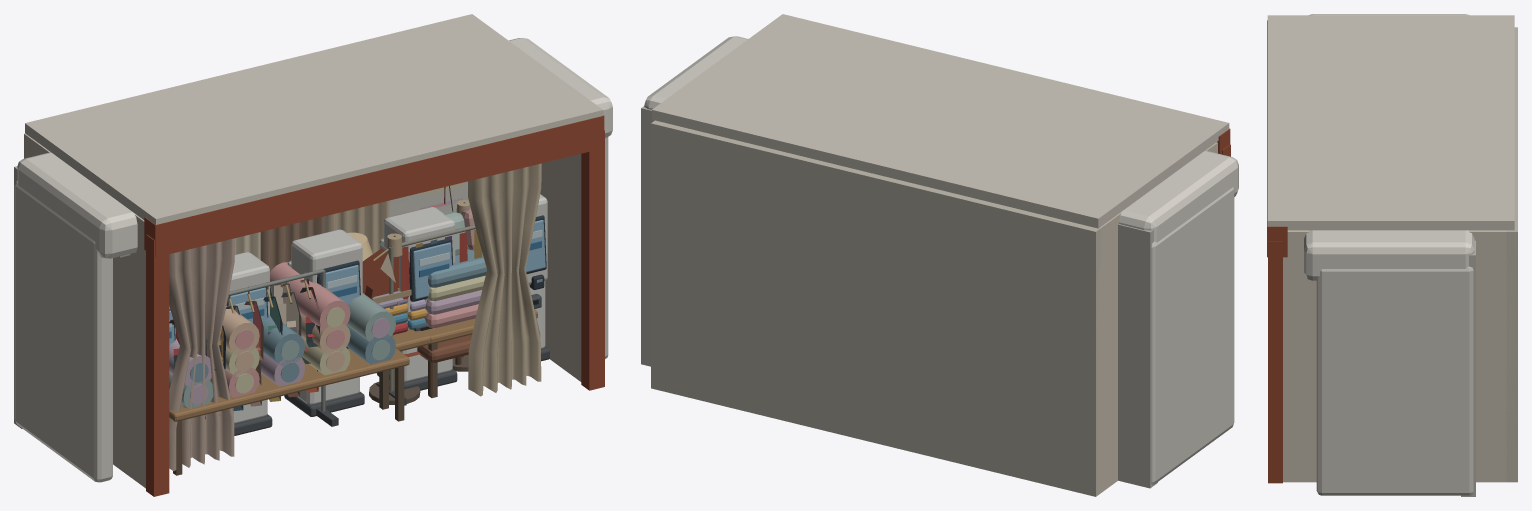
Rendered from market.glb.
3 views of the same model, side by side, from view 1: azimuth 30°, elevation 25°; view 2: azimuth 150°, elevation 25°; view 3: azimuth 270°, elevation 25° (orthographic). The views are drawn at different scales.
Visible parts, largest first — view 1: Bedding, Tickets, Curtains, Children, Womenswear, Suits; view 2: Bedding, Tickets; view 3: Bedding, Tickets.
Boxes of the visible parts, <box> form: Bedding: <box>24,14,604,496</box>; Tickets: <box>14,38,612,482</box>; Curtains: <box>169,163,541,471</box>; Children: <box>169,187,445,426</box>; Womenswear: <box>205,186,470,419</box>; Suits: <box>169,225,482,405</box>; Bedding: <box>651,14,1230,496</box>; Tickets: <box>641,36,1238,488</box>; Bedding: <box>1267,15,1517,483</box>; Tickets: <box>1304,14,1475,496</box>.
Size of the model in its own units: 6 by 3.1 by 2.69.
